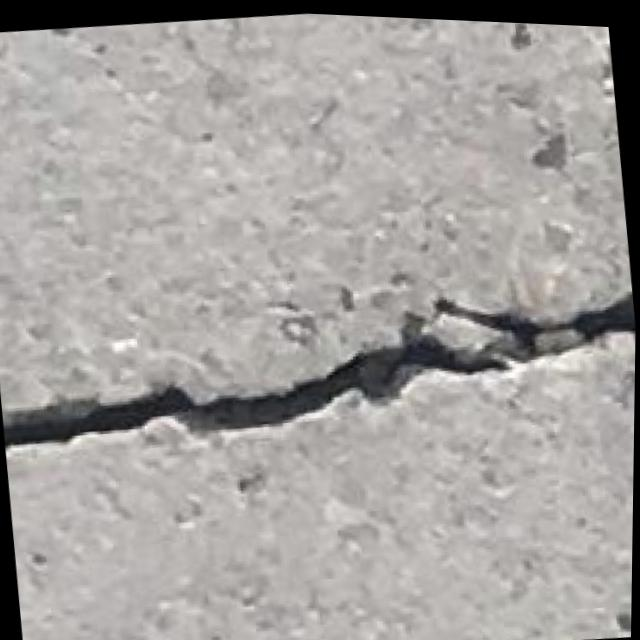Crack: (0, 226, 637, 503)
